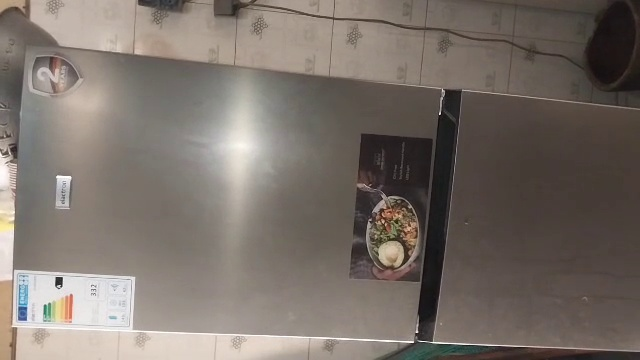refrigerator: (13, 38, 638, 360)
